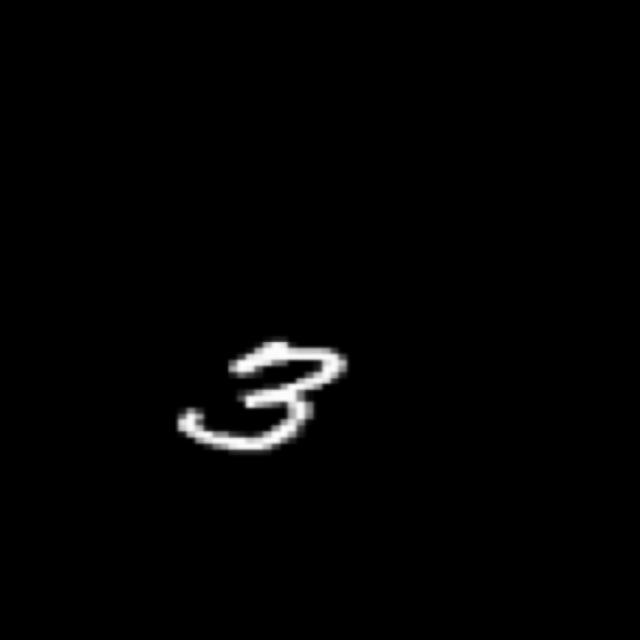three -3-: (172, 334, 353, 458)
